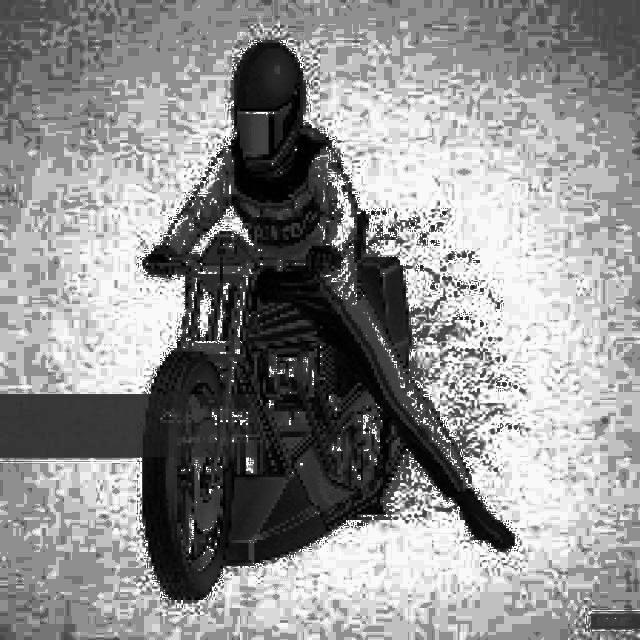Bike: (131, 271, 409, 597)
